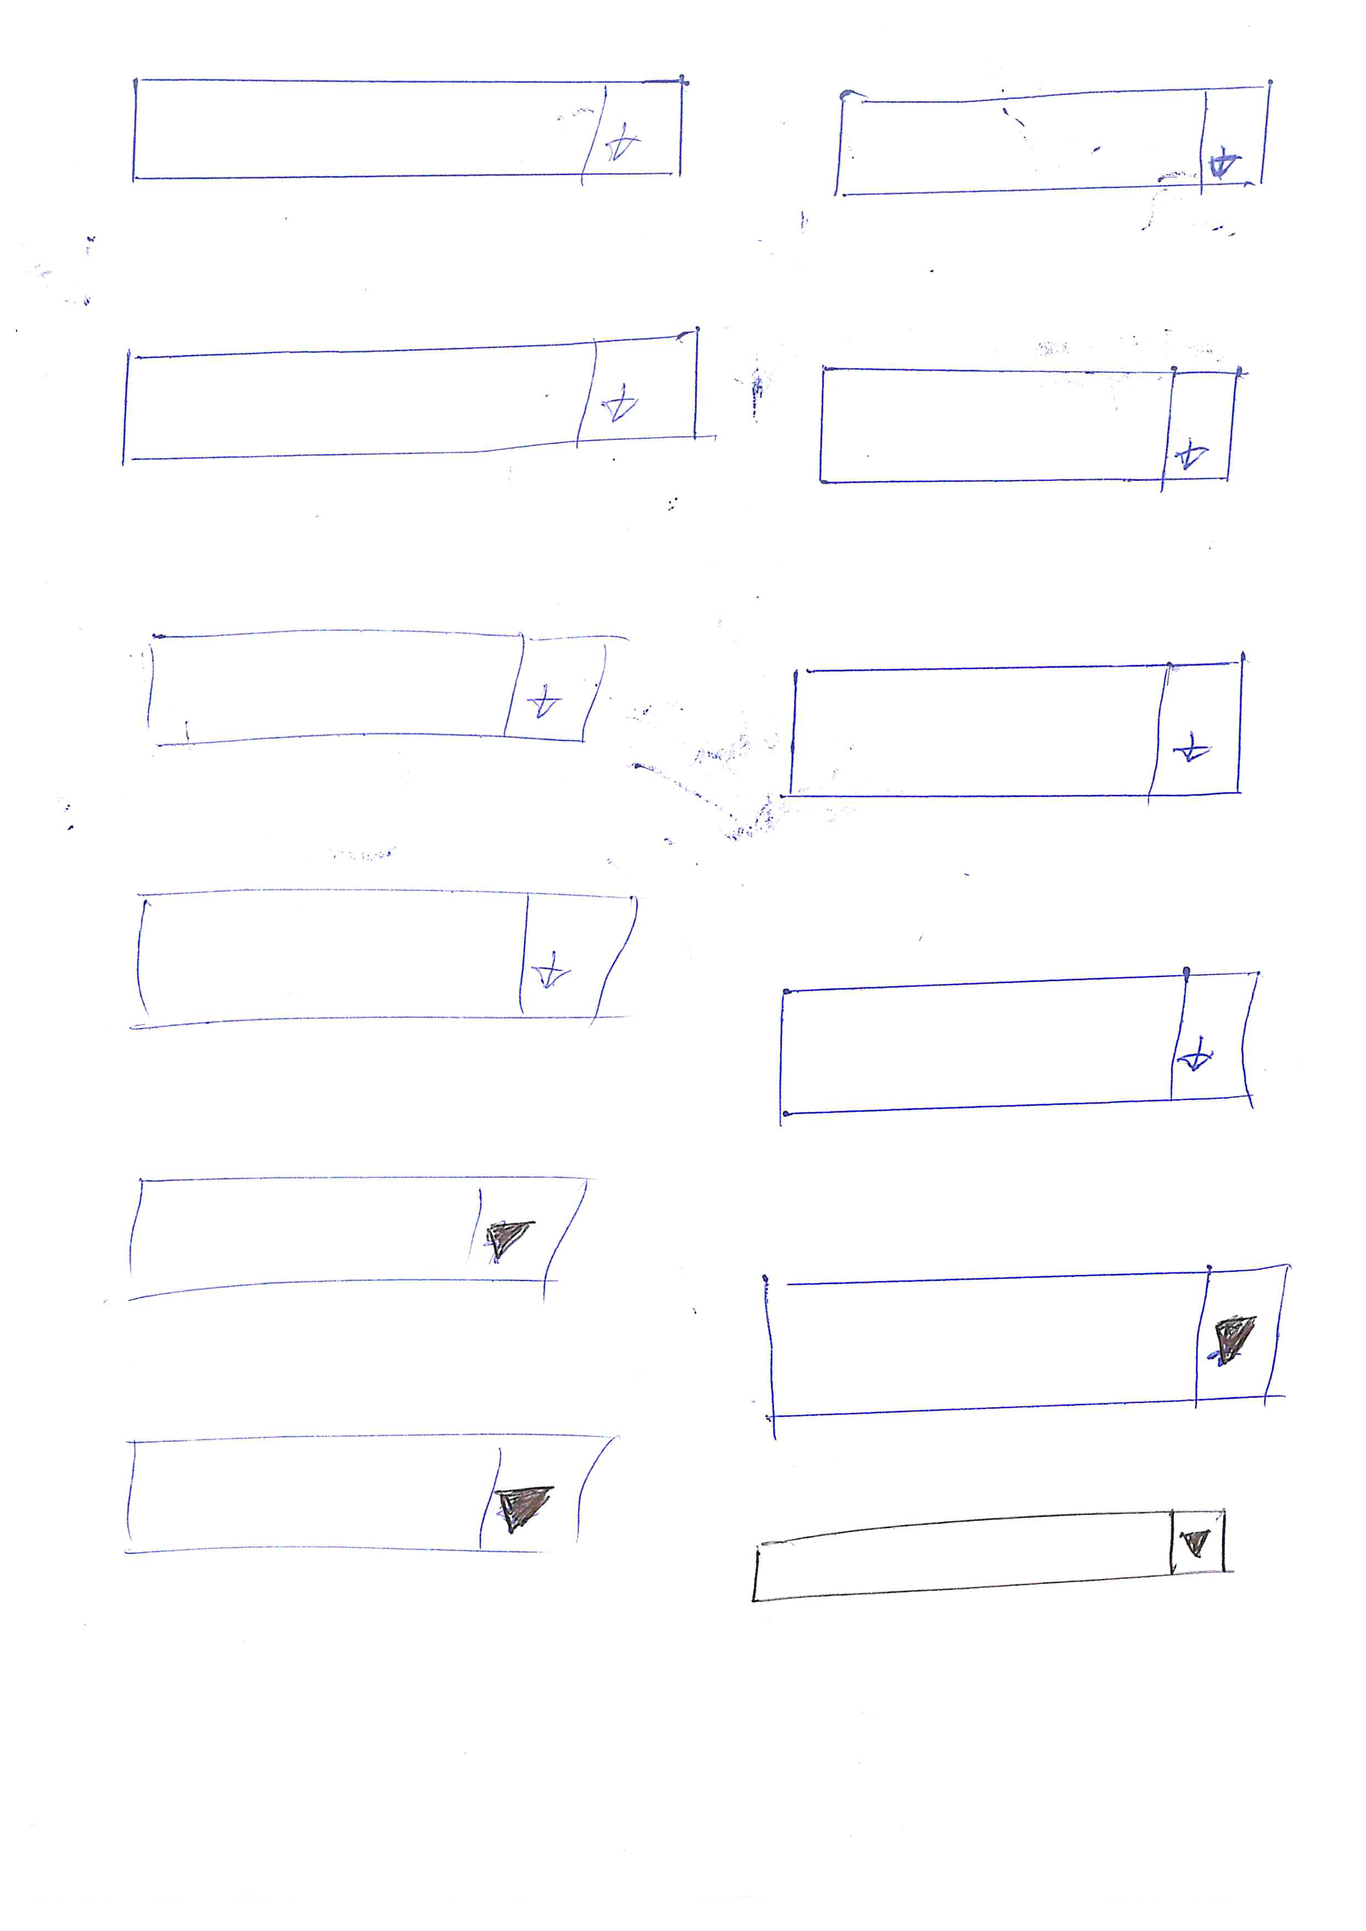Select: (118, 325, 702, 469), (757, 1264, 1292, 1419), (772, 964, 1263, 1119), (126, 886, 640, 1019), (789, 661, 1252, 807), (130, 71, 687, 183), (118, 1428, 609, 1555), (136, 627, 608, 753), (123, 1171, 585, 1298), (816, 361, 1240, 486), (829, 84, 1271, 200), (750, 1505, 1231, 1607)
